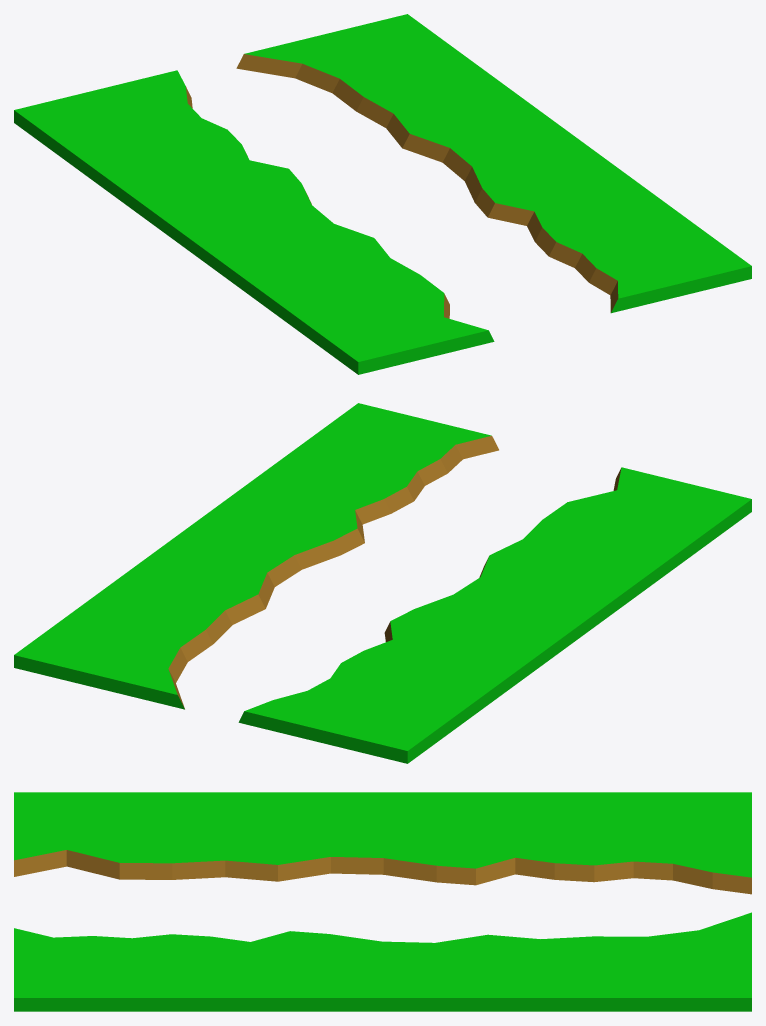
Rendered from ground_01_02.fbx.
3 renders of one model, top to bottom at view 1: azimuth 30°, elevation 25°; view 2: azimuth 150°, elevation 25°; view 3: azimuth 270°, elevation 25°, orthographic. The views are drawn at different scales.
Parts seen in each view (by area): view 1: Cube; view 2: Cube; view 3: Cube.
Boxes of the visible parts, x1,y1,x2,y2 form: Cube: (14,14,751,374); Cube: (14,403,751,763); Cube: (14,792,751,1011).
Size of the model in its own units: 74.66 by 2.32 by 113.
